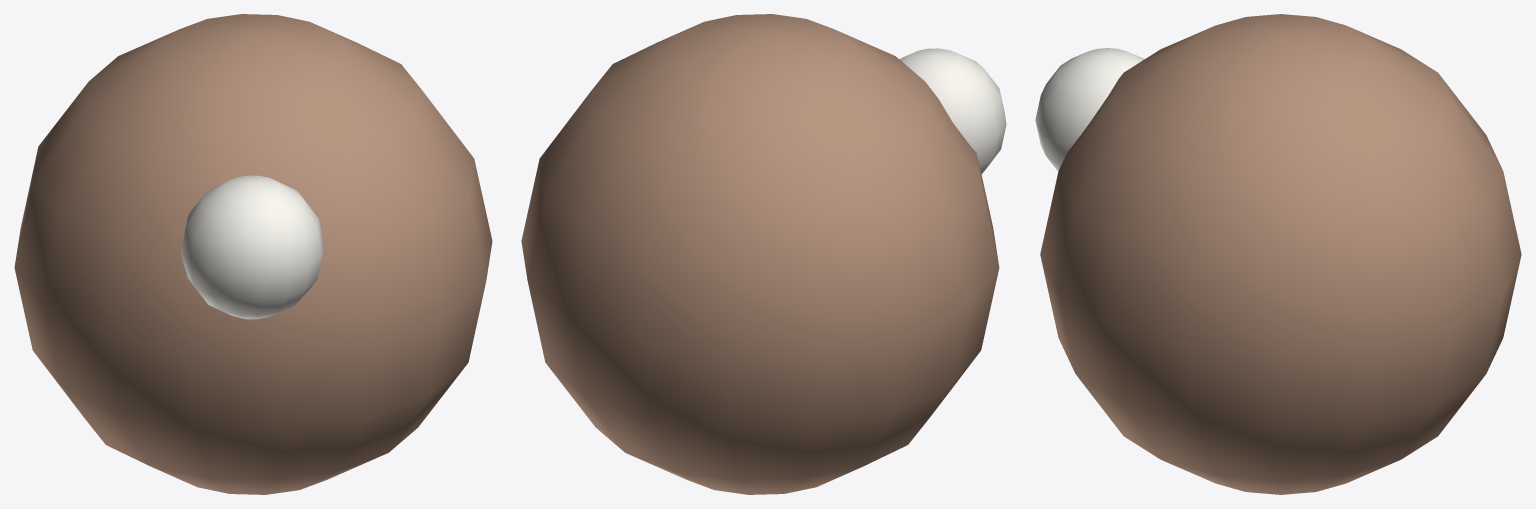
File: background-pearl.glb
The picture shows the model from 3 angles, left to right: view 1: azimuth 30°, elevation 25°; view 2: azimuth 150°, elevation 25°; view 3: azimuth 270°, elevation 25°; orthographic projection.
Parts seen in each view (by area): view 1: pearl, glint; view 2: pearl, glint; view 3: pearl, glint.
Boxes of the visible parts, box(x1,y1,x2,y2) form: pearl: box(14, 14, 492, 494); glint: box(181, 175, 323, 319); pearl: box(521, 14, 999, 494); glint: box(899, 48, 1006, 173); pearl: box(1040, 14, 1521, 494); glint: box(1035, 48, 1144, 171).
Bounding box in the file's own units: 2 × 2 × 2.02.
